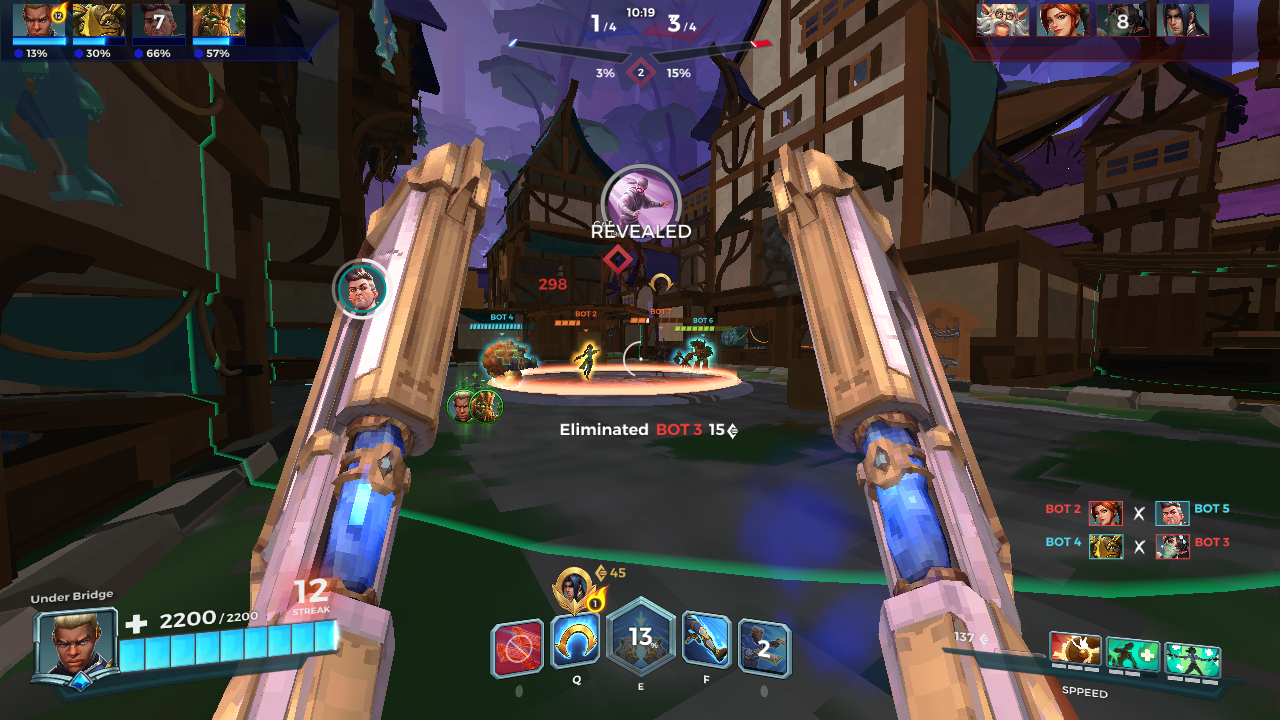model: (577, 338, 600, 381)
